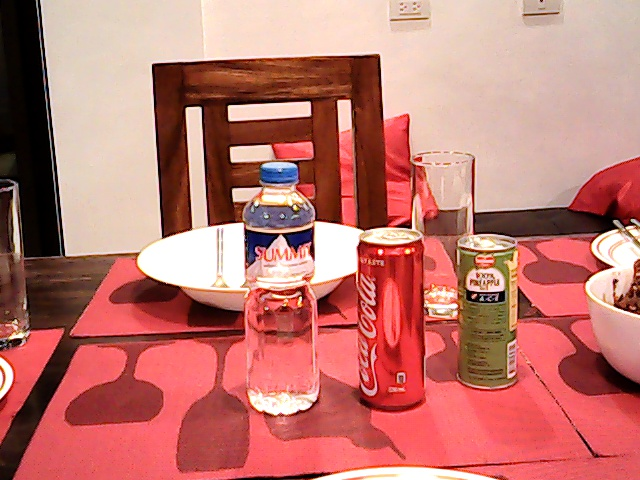Cola: (347, 222, 429, 407)
Pine Juice: (446, 228, 524, 392)
Summit Water: (231, 156, 323, 412)
